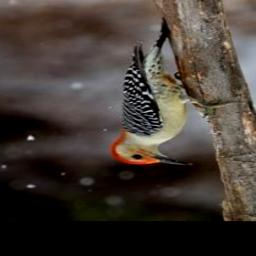Woodpecker: (111, 19, 240, 167)
